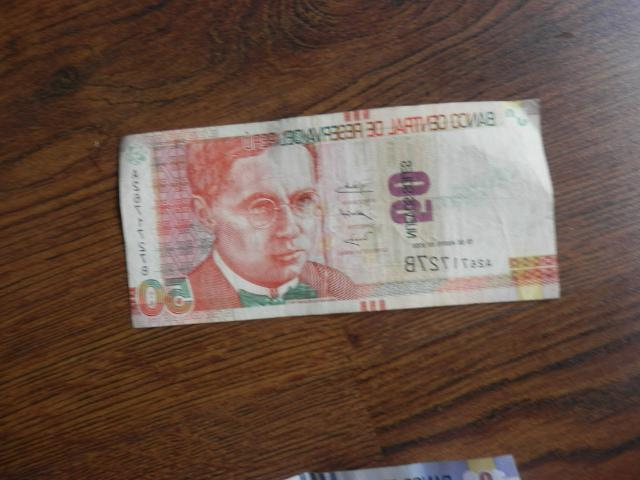B50: (121, 101, 561, 327)
